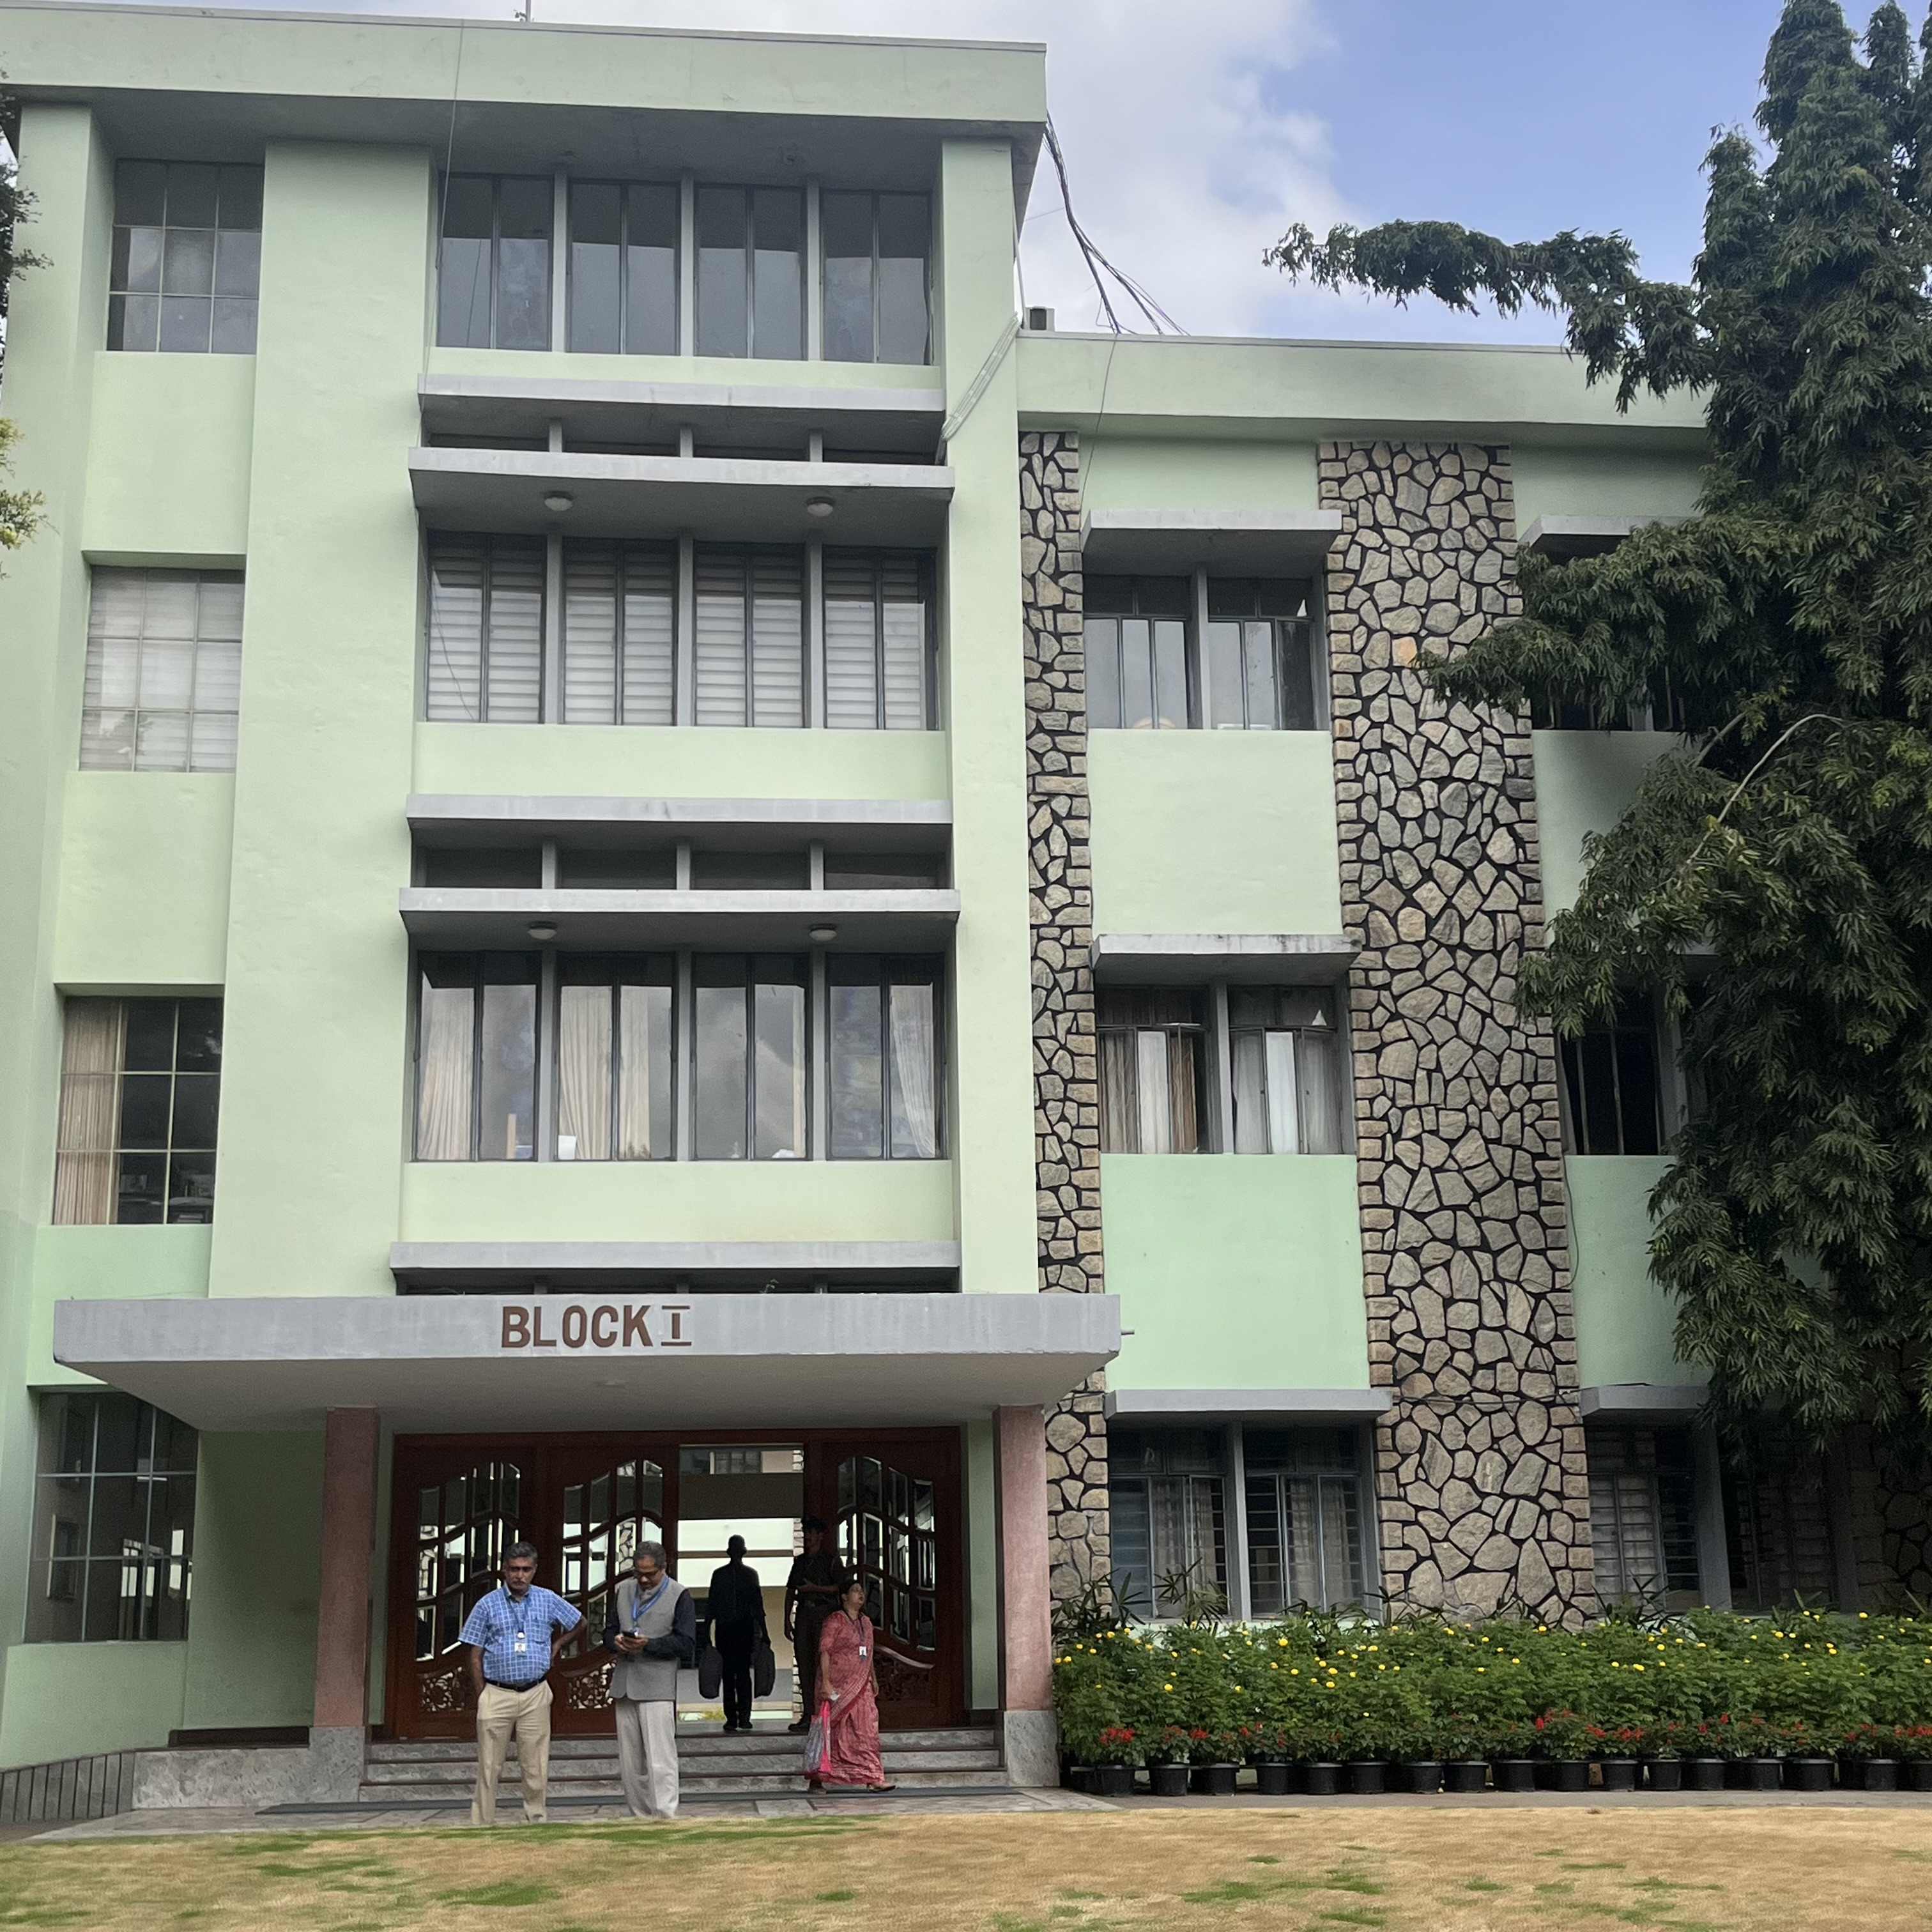Block 1: (18, 5, 1750, 1759)
